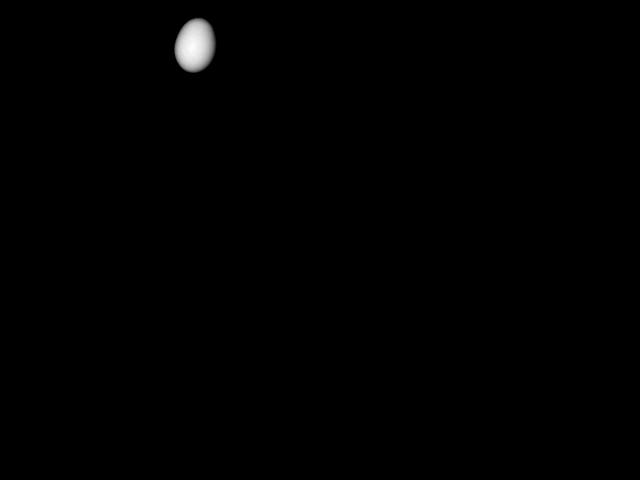egg: (172, 16, 218, 75)
